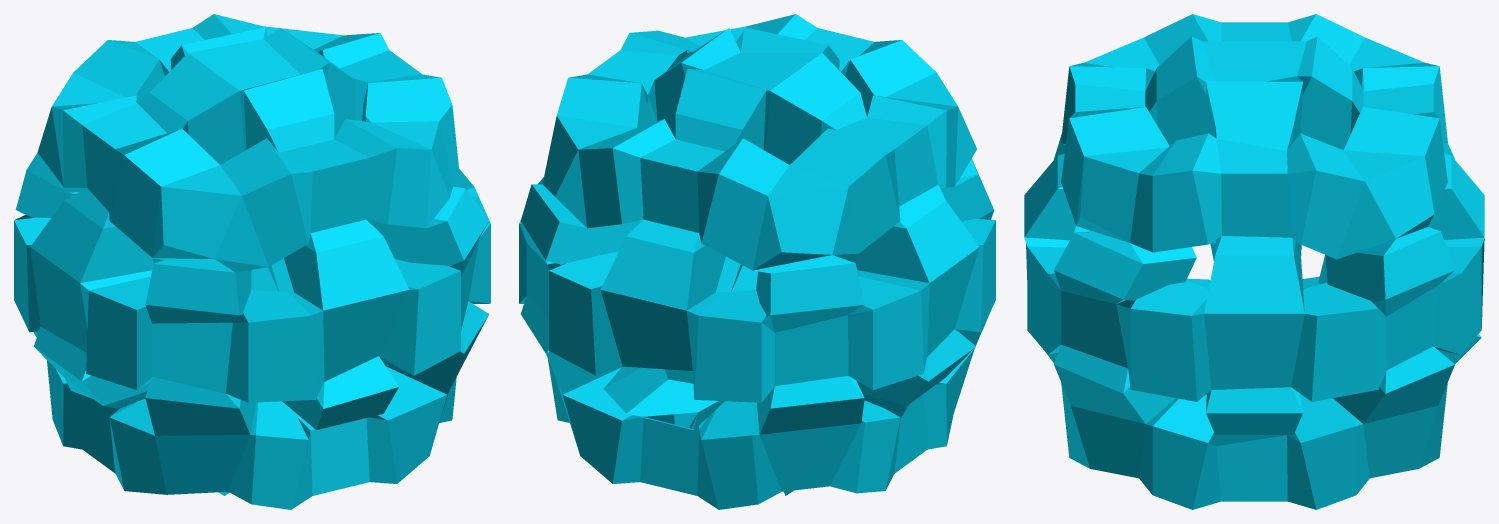
The model's file is AutomatAmmo.fbx.
3 renders of one model, left to right at view 1: azimuth 30°, elevation 25°; view 2: azimuth 150°, elevation 25°; view 3: azimuth 270°, elevation 25°, orthographic.
Visible parts, largest first — view 1: AutomatAmmo; view 2: AutomatAmmo; view 3: AutomatAmmo.
Boxes of the visible parts, left/top/right/bottom form: AutomatAmmo: left=14, top=14, right=490, bottom=509; AutomatAmmo: left=519, top=14, right=995, bottom=509; AutomatAmmo: left=1024, top=14, right=1484, bottom=509.
Size of the model in its own units: 144 by 142 by 144.
